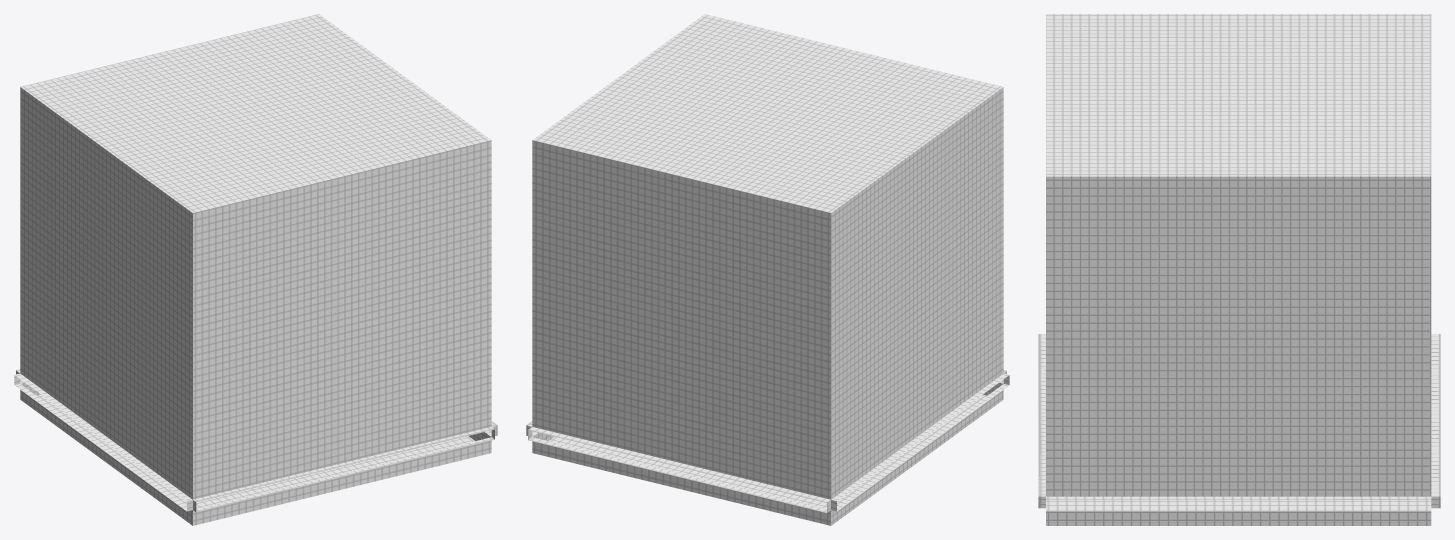
The model's file is room_center_grid.fbx.
3 views of the same model, side by side, from view 1: azimuth 30°, elevation 25°; view 2: azimuth 150°, elevation 25°; view 3: azimuth 270°, elevation 25° (orthographic). The views are drawn at different scales.
Parts seen in each view (by area): view 1: p_room_center_grid; view 2: p_room_center_grid; view 3: p_room_center_grid.
Boxes of the visible parts, bbox=[...] form: p_room_center_grid: bbox=[14, 14, 497, 525]; p_room_center_grid: bbox=[526, 14, 1009, 525]; p_room_center_grid: bbox=[1038, 14, 1440, 525].
Size of the model in its own units: 10.4 by 10 by 10.45.
